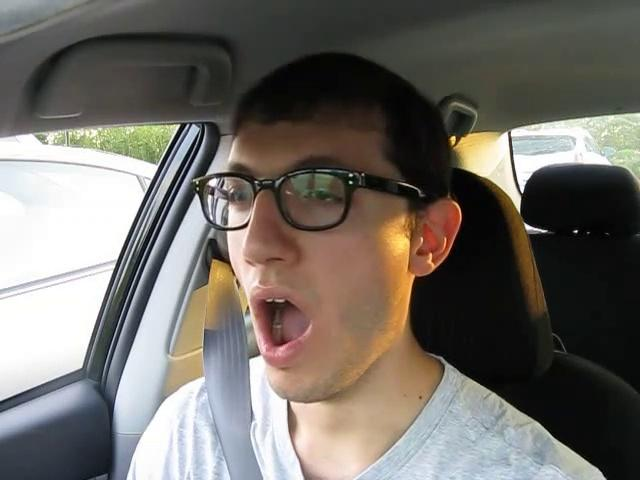close_eyeL: (209, 175, 272, 222)
close_eyeR: (278, 176, 360, 229)
yawn: (237, 283, 327, 369)
